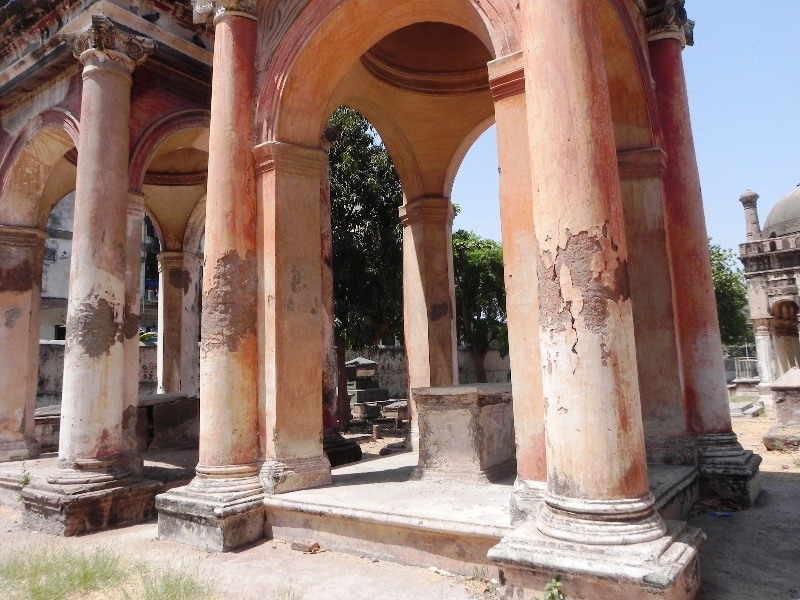Spalling: (534, 225, 631, 372), (198, 247, 261, 358), (64, 296, 145, 361)
